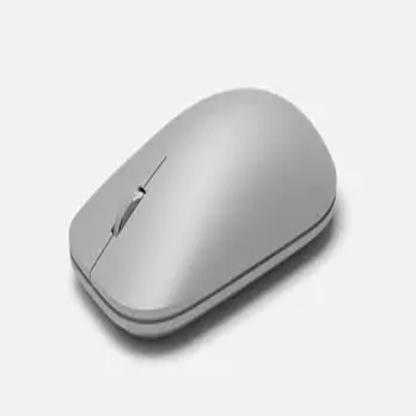not trash: (68, 87, 339, 336)
